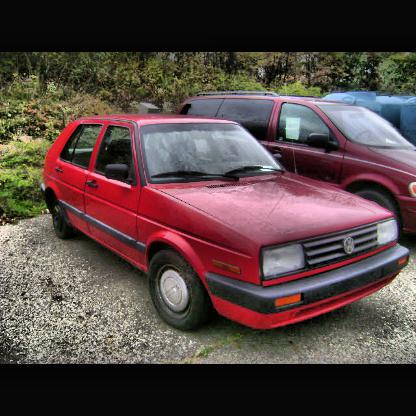Volkswagen Golf Hatchback 1991: (41, 114, 412, 334)
